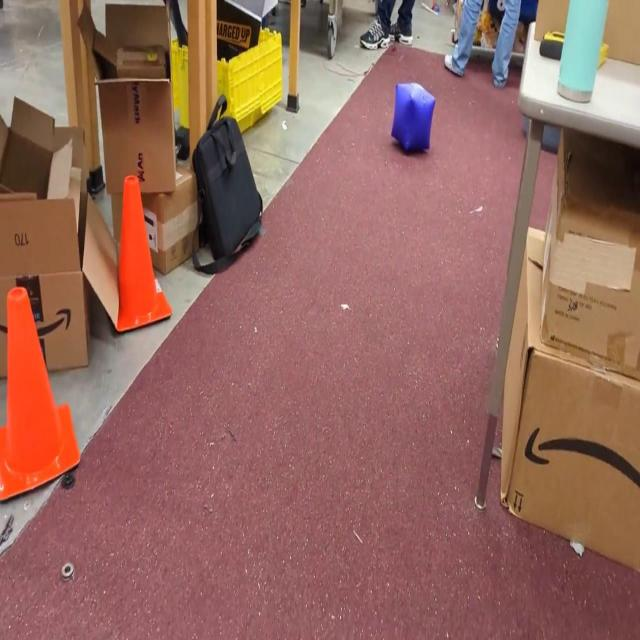frc_cube: (390, 79, 438, 156)
